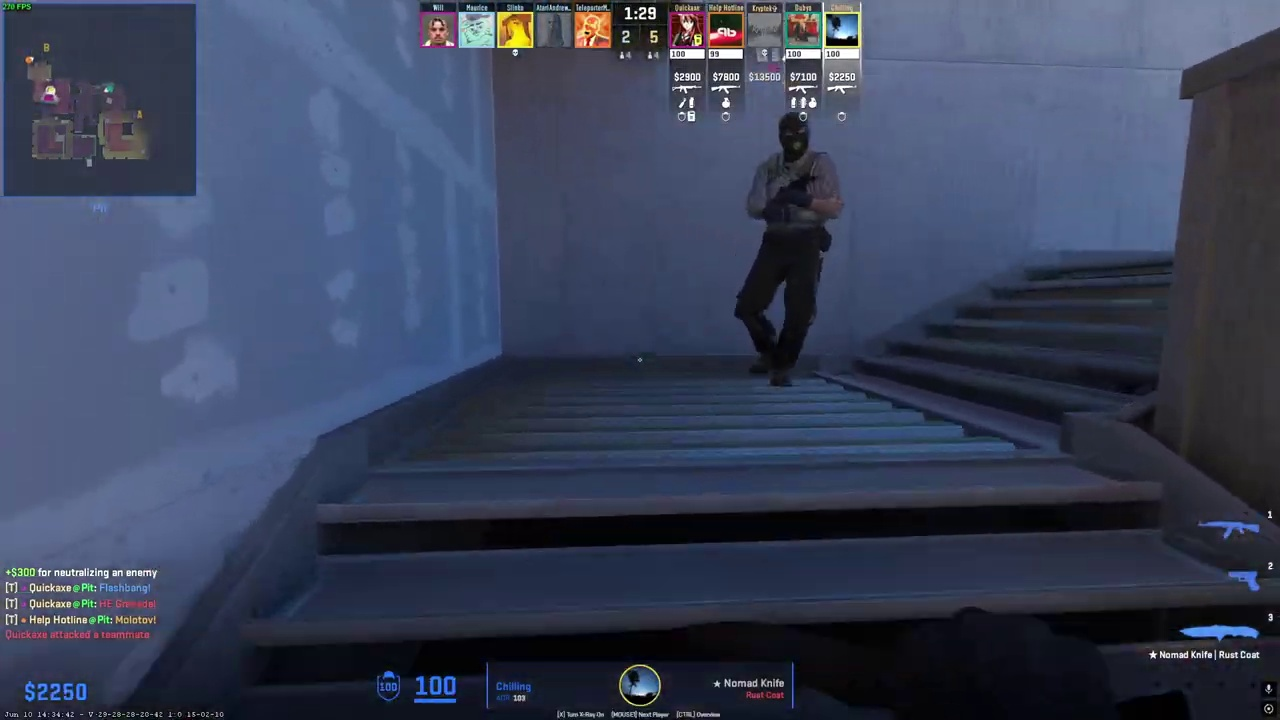Terrorist: (736, 112, 842, 386)
